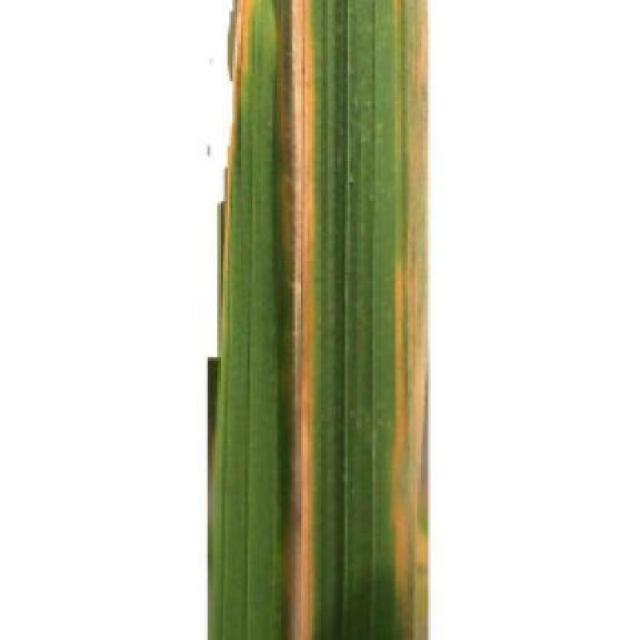Brown_Spot: (196, 0, 436, 640)
